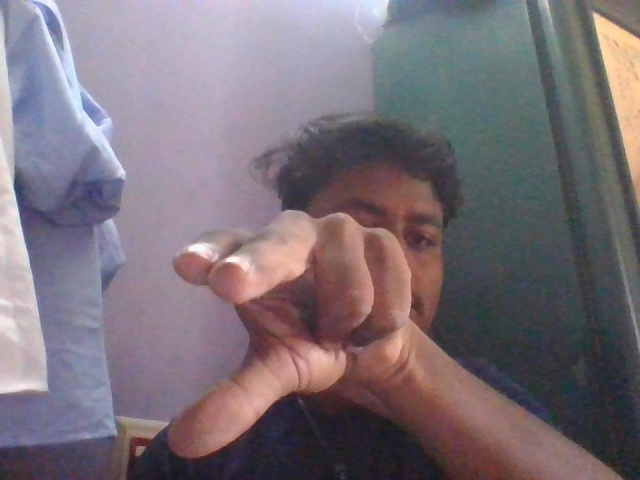no: (140, 201, 437, 475)
